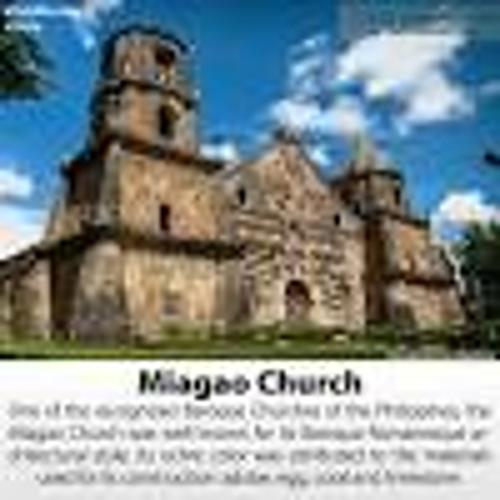Miagao Church: (30, 15, 454, 343)
